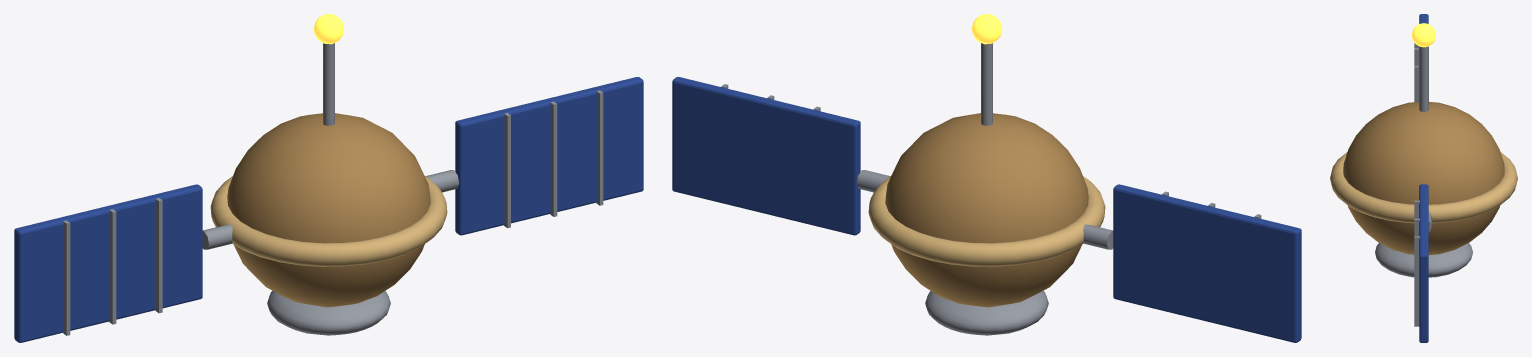
File: satellite_l.glb
3 views of the same model, side by side, from view 1: azimuth 30°, elevation 25°; view 2: azimuth 150°, elevation 25°; view 3: azimuth 270°, elevation 25° (orthographic). The views are drawn at different scales.
Parts seen in each view (by area): view 1: body, panel, panel.001, ring, dish, antenna, strut.001, strut.004, strut.002, strut.005, strut, strut.003 (+3 smaller); view 2: body, panel, panel.001, ring, dish, antenna, lamp, arm, arm.001; view 3: body, ring, dish, panel.001, antenna, strut.005, lamp, strut.
Boxes of the visible parts, x1,y1,x2,y2 form: body: (227,113,430,307); panel: (14,184,202,342); panel.001: (455,77,643,235); ring: (210,175,447,266); dish: (267,290,390,335); antenna: (323,43,334,125); strut.001: (109,209,116,324); strut.004: (550,101,557,216); strut.002: (63,220,70,335); strut.005: (596,90,603,205); strut: (155,198,162,313); strut.003: (504,113,510,228); body: (885,113,1088,307); panel: (1113,184,1301,342); panel.001: (672,77,860,235); ring: (868,175,1105,266); dish: (925,290,1048,335); antenna: (981,43,992,125); lamp: (971,14,1002,44); arm: (1083,224,1113,249); arm.001: (856,170,889,192); body: (1343,102,1504,254); ring: (1330,152,1517,223); dish: (1375,243,1472,277); panel.001: (1419,184,1428,342); antenna: (1419,46,1428,111); strut.005: (1414,236,1419,326); lamp: (1411,23,1436,47); strut: (1414,66,1418,102).
Size of the model in its own units: 21 by 9.85 by 6.9.
